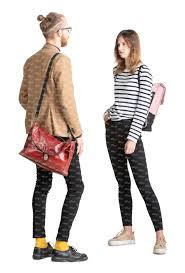Person: (18, 11, 91, 266), (101, 26, 169, 260)
